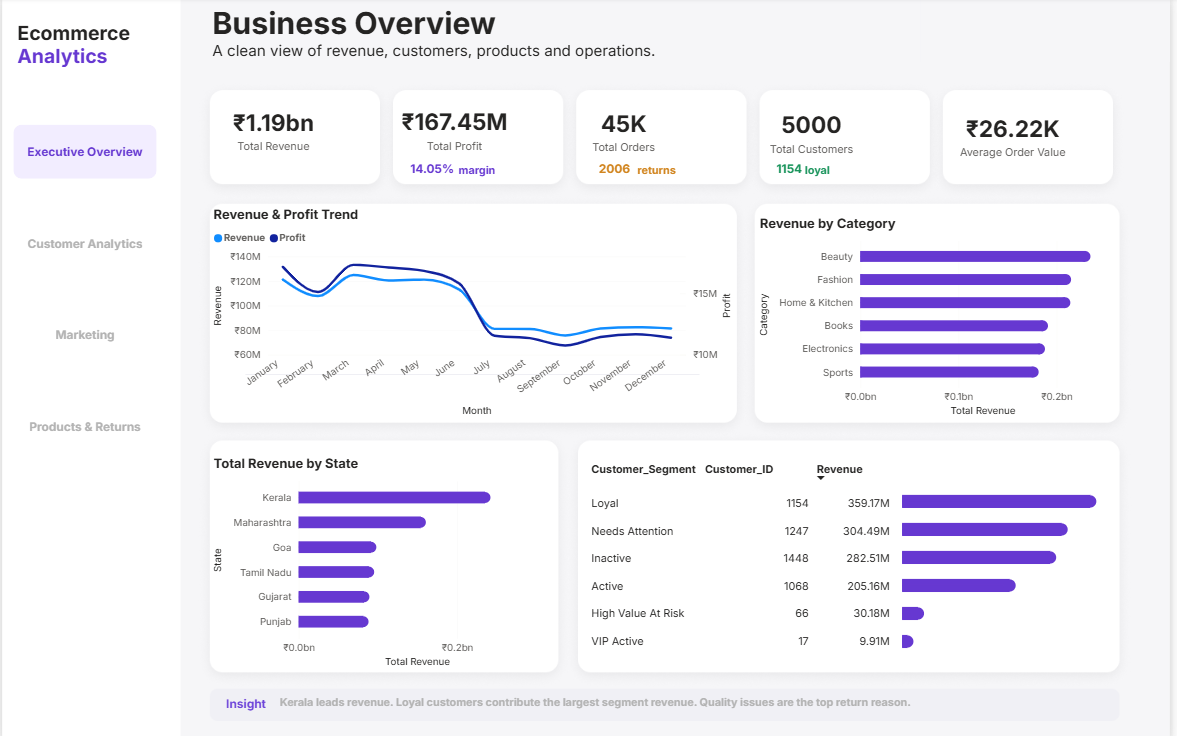

The page's visual inventory and layout, read from the dashboard file:
{"tool":"powerbi","page":{"name":"Executive Overview","canvas":[1440,920],"ordinal":0},"visuals":[{"type":"card","fields":{"Values":["orders.Total Orders"]},"box":[680,104,174,122],"z":0},{"type":"card","fields":{"Values":["orders.Average Order Value"]},"box":[1158,110,178,122],"z":1000},{"type":"card","fields":{"Values":["orders.Total Customers"]},"box":[910,106,178,120],"z":2000},{"type":"card","fields":{"Values":["orders.Total Profit"]},"box":[470,102,176,122],"z":3000},{"type":"card","fields":{"Values":["orders.Total Revenue"]},"box":[256,110,158,108],"z":4000},{"type":"lineChart","title":"Revenue & Profit Trend","fields":{"Category":["orders.Order_Date.Variation.Date Hierarchy.Month"],"Y":["orders.Total Revenue"],"Y2":["orders.Total Profit"]},"box":[255.9,259,652.1,263.6],"z":5000},{"type":"clusteredBarChart","title":"Revenue by Category","fields":{"Category":["products.Category"],"Y":["orders.Total Revenue"]},"box":[930,270,456.7,253.3],"z":6000},{"type":"clusteredBarChart","fields":{"Y":["orders.Total Revenue"],"Category":["customers.State"]},"box":[256.7,565,428.3,266.7],"z":7000},{"type":"pageNavigator","box":[13.9,157.5,177.5,407.5],"z":8000},{"type":"textbox","box":[13.9,24.7,177.5,109.6],"z":9000},{"type":"pivotTable","fields":{"Rows":["customers.Customer_Segment"],"Values":["CountNonNull(customers.Customer_ID)","orders.Revenue Bar"]},"box":[716.7,560,388.3,266.7],"z":10000},{"type":"clusteredBarChart","title":"Revenue by Category","fields":{"Y":["orders.Total Revenue"],"Category":["customers.Customer_Segment"]},"box":[1105,601.7,268.3,208.3],"z":11000},{"type":"textbox","box":[254,4,566,106],"z":12000},{"type":"card","fields":{"Values":["customers.Total Returns"]},"box":[730,193.3,49.2,43.3],"z":13000},{"type":"textbox","box":[779.2,200,59.2,30],"z":14000},{"type":"card","fields":{"Values":["customers.Loyal Customers"]},"box":[945.8,193.3,49.2,43.3],"z":15000},{"type":"textbox","box":[985,200,60,29.2],"z":16000},{"type":"card","fields":{"Values":["customers.Profit Margin %"]},"box":[495.4,193.1,71.5,43.1],"z":17000},{"type":"textbox","box":[558.6,200,60,28.6],"z":18000},{"type":"shape","box":[1132.9,0,331.4,80],"z":18001},{"type":"textbox","box":[337.7,856.9,1031.5,36.9],"z":18002},{"type":"textbox","box":[272,857,71,37],"z":18003}]}

Visuals, with their boxes in screenshot pixels (x1, y1, x2, y2), scaled from the page's 1440x920 canvas onto the 1177x736 screenshot:
card - orders.Total Orders: locate(556, 83, 698, 181)
card - orders.Average Order Value: locate(947, 88, 1092, 186)
card - orders.Total Customers: locate(744, 85, 889, 181)
card - orders.Total Profit: locate(384, 82, 528, 179)
card - orders.Total Revenue: locate(209, 88, 338, 174)
"Revenue & Profit Trend" lineChart: locate(209, 207, 742, 418)
"Revenue by Category" clusteredBarChart: locate(760, 216, 1133, 419)
clusteredBarChart - orders.Total Revenue x customers.State: locate(210, 452, 560, 665)
pageNavigator: locate(11, 126, 156, 452)
textbox: locate(11, 20, 156, 107)
pivotTable - customers.Customer_Segment x CountNonNull(customers.Customer_ID): locate(586, 448, 903, 661)
"Revenue by Category" clusteredBarChart: locate(903, 481, 1122, 648)
textbox: locate(208, 3, 670, 88)
card - customers.Total Returns: locate(597, 155, 637, 189)
textbox: locate(637, 160, 685, 184)
card - customers.Loyal Customers: locate(773, 155, 813, 189)
textbox: locate(805, 160, 854, 183)
card - customers.Profit Margin %: locate(405, 154, 463, 189)
textbox: locate(457, 160, 506, 183)
shape: locate(926, 0, 1176, 64)
textbox: locate(276, 686, 1119, 715)
textbox: locate(222, 686, 280, 715)
